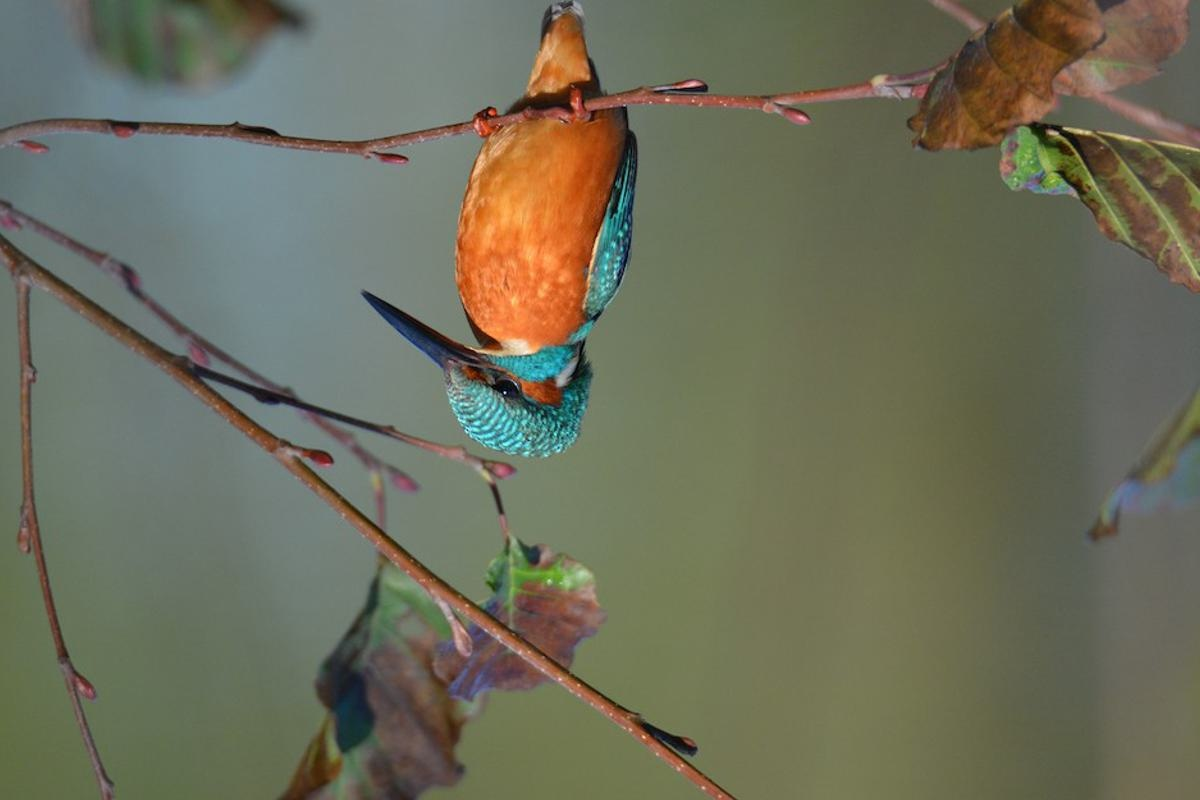kingfisher: (365, 7, 720, 475)
